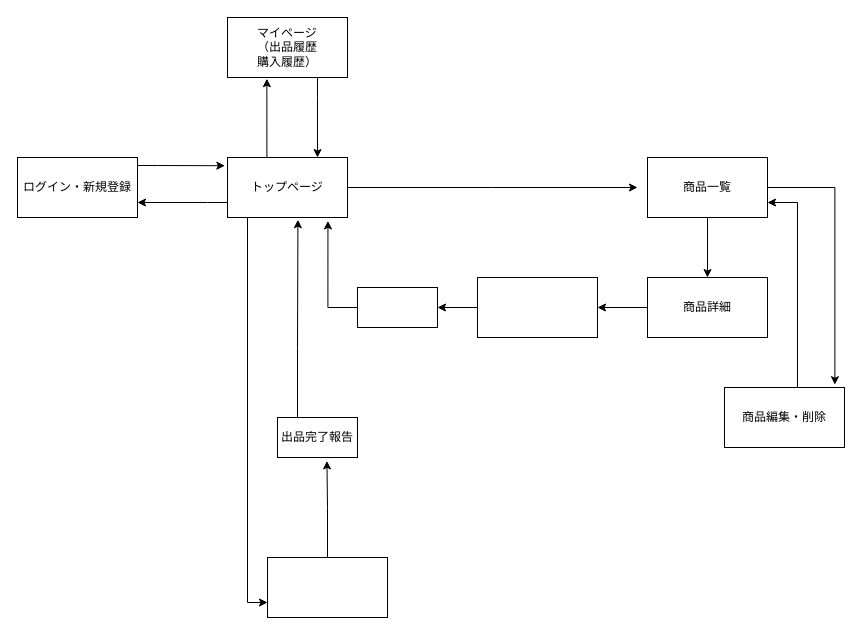
Some shapes in this 862 by 635 pixel diagram are drawn without their labels. Here are the shapes that lost their labels. From the top down, the centre of each, then its label:
point (397, 307): 購入完了報告
point (537, 307): 商品購入
point (327, 587): 商品出品
